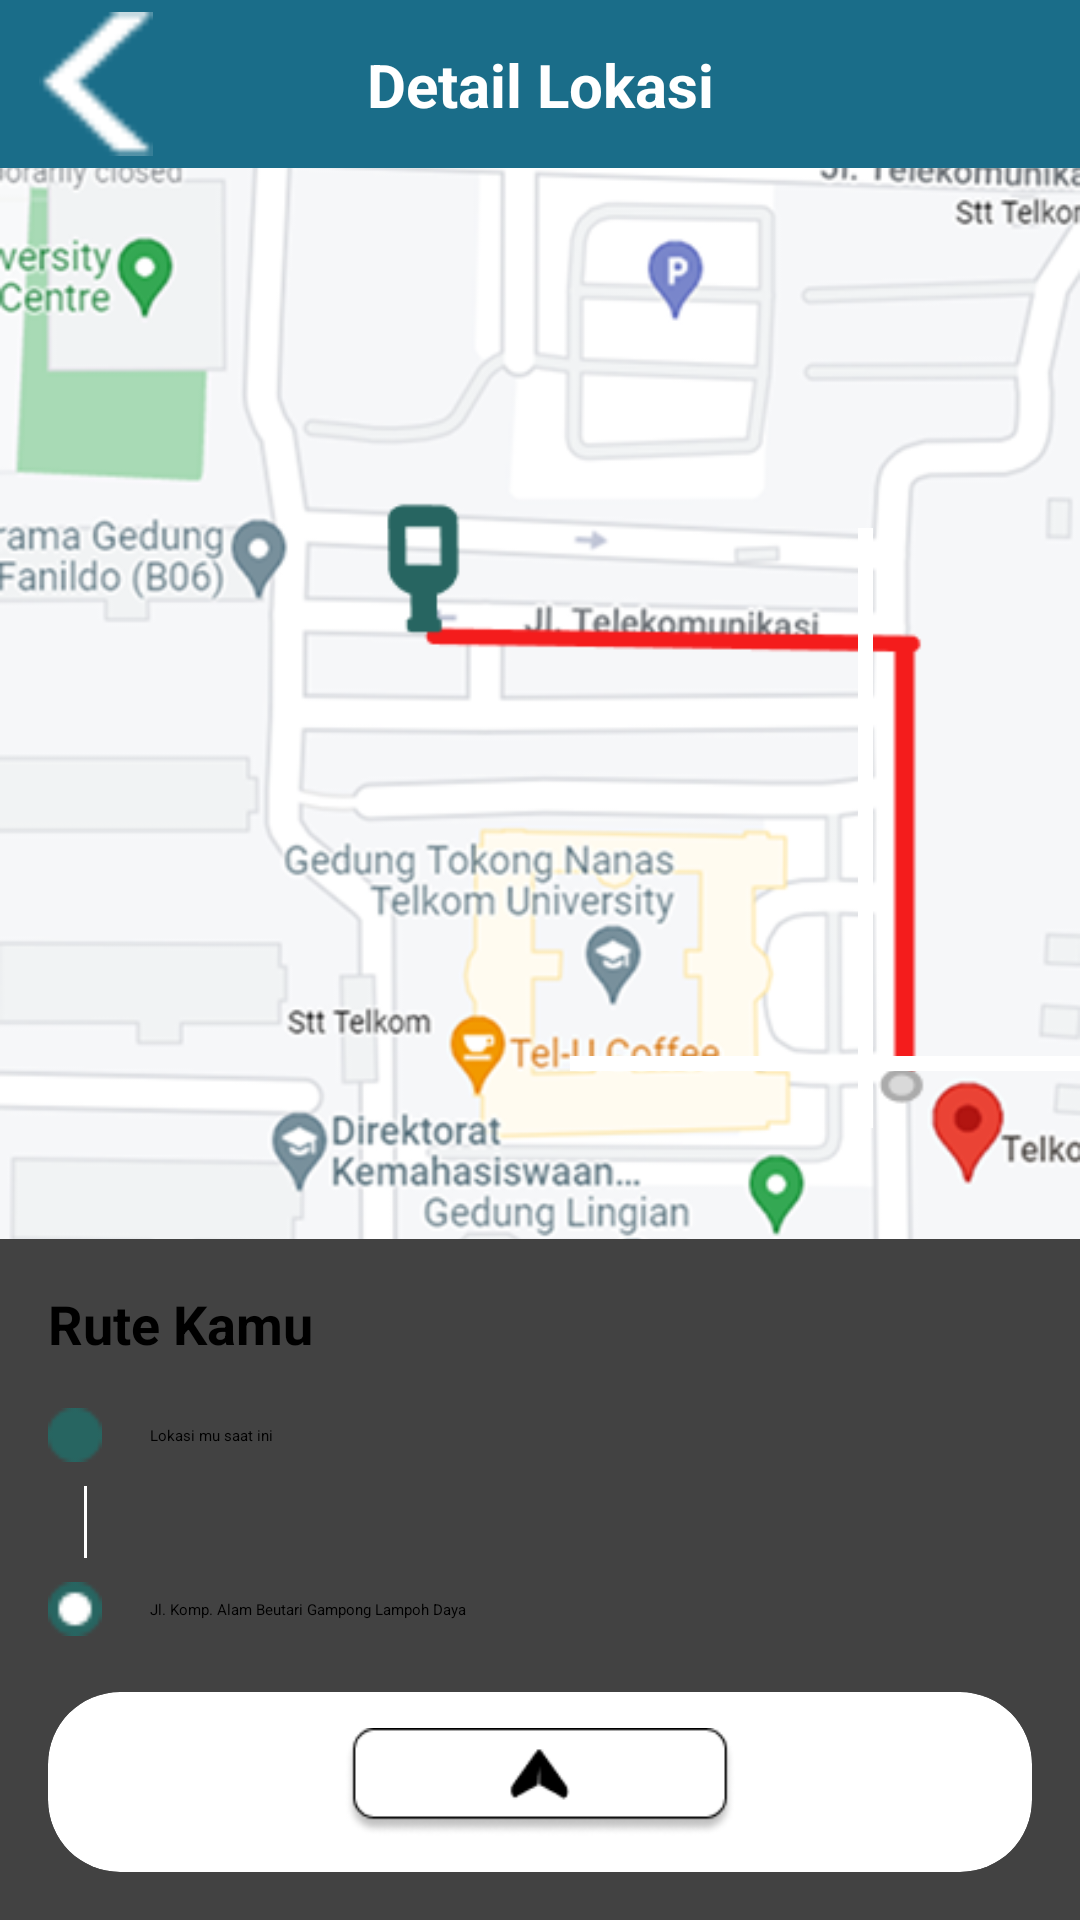

Icons on this 1080*1920 Android screen, each with the point to tap as point (x, y):
Kembali: point (97, 84)
location destination: point (75, 1609)
